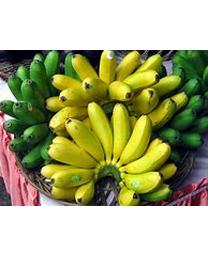banana: (0, 50, 205, 202)
